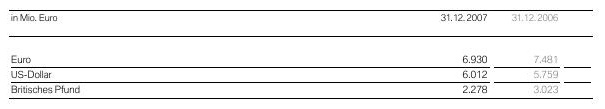table: (0, 0, 605, 109)
